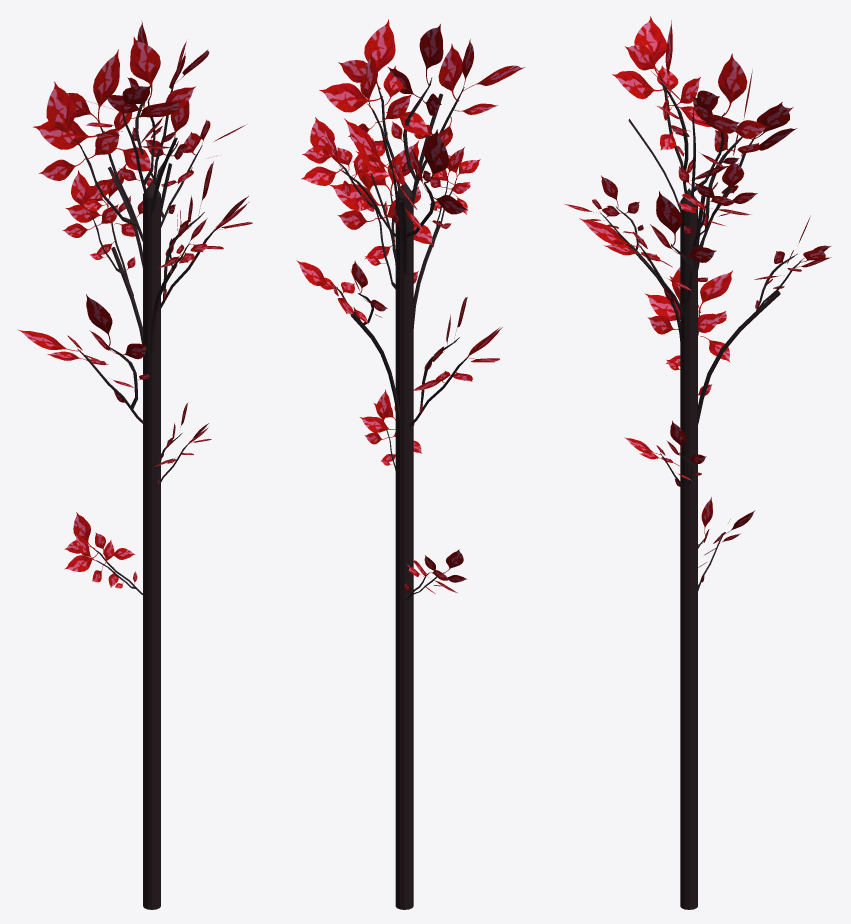
The model's file is redtree4.fbx.
The picture shows the model from 3 angles, left to right: view 1: azimuth 30°, elevation 25°; view 2: azimuth 150°, elevation 25°; view 3: azimuth 270°, elevation 25°; orthographic projection.
Parts seen in each view (by area): view 1: pCylinder1067; view 2: pCylinder1067; view 3: pCylinder1067.
Part boxes in pixels (left/top/right/bottom): pCylinder1067: left=17, top=20, right=252, bottom=909; pCylinder1067: left=296, top=19, right=525, bottom=909; pCylinder1067: left=564, top=16, right=831, bottom=909.
Size of the model in its own units: 12.55 by 47.85 by 13.58.
